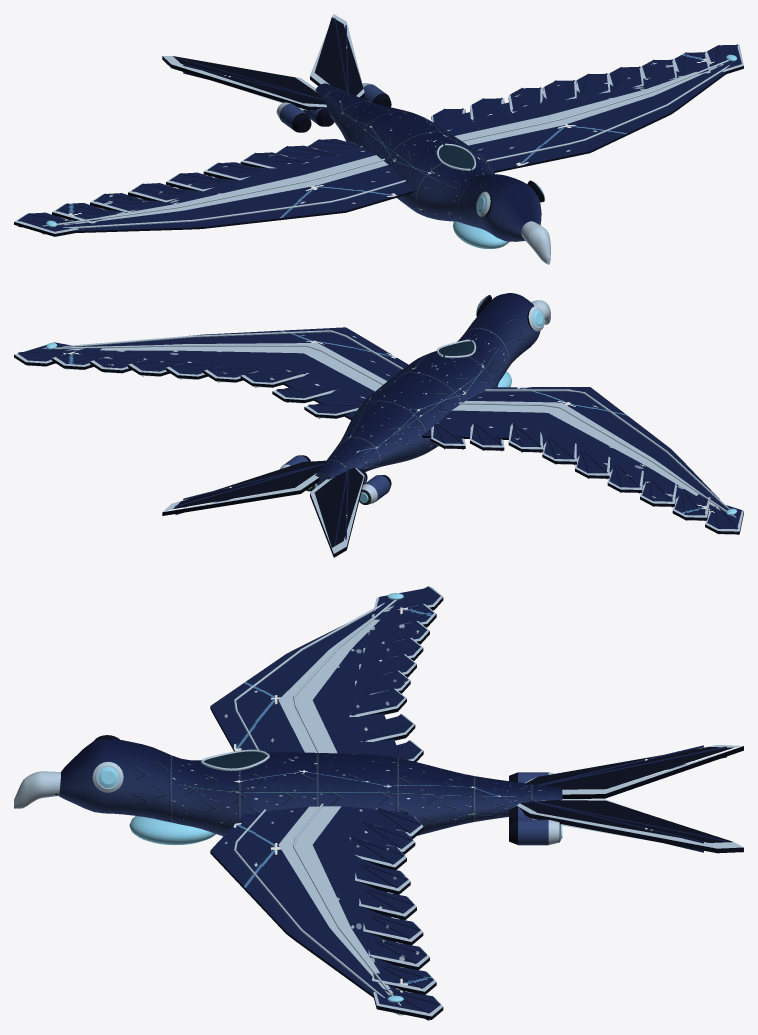
The picture shows the model from 3 angles, top to bottom: view 1: azimuth 30°, elevation 25°; view 2: azimuth 150°, elevation 25°; view 3: azimuth 270°, elevation 25°; orthographic projection. The views are drawn at different scales.
Parts seen in each view (by area): view 1: frigatebird_hull; view 2: frigatebird_hull; view 3: frigatebird_hull.
Part boxes in pixels (bbox=[...]): frigatebird_hull: bbox=[14, 14, 743, 264]; frigatebird_hull: bbox=[14, 293, 743, 557]; frigatebird_hull: bbox=[14, 586, 743, 1020].
Size of the model in its own units: 272 by 29 by 195.
1 material, 1 textured.
